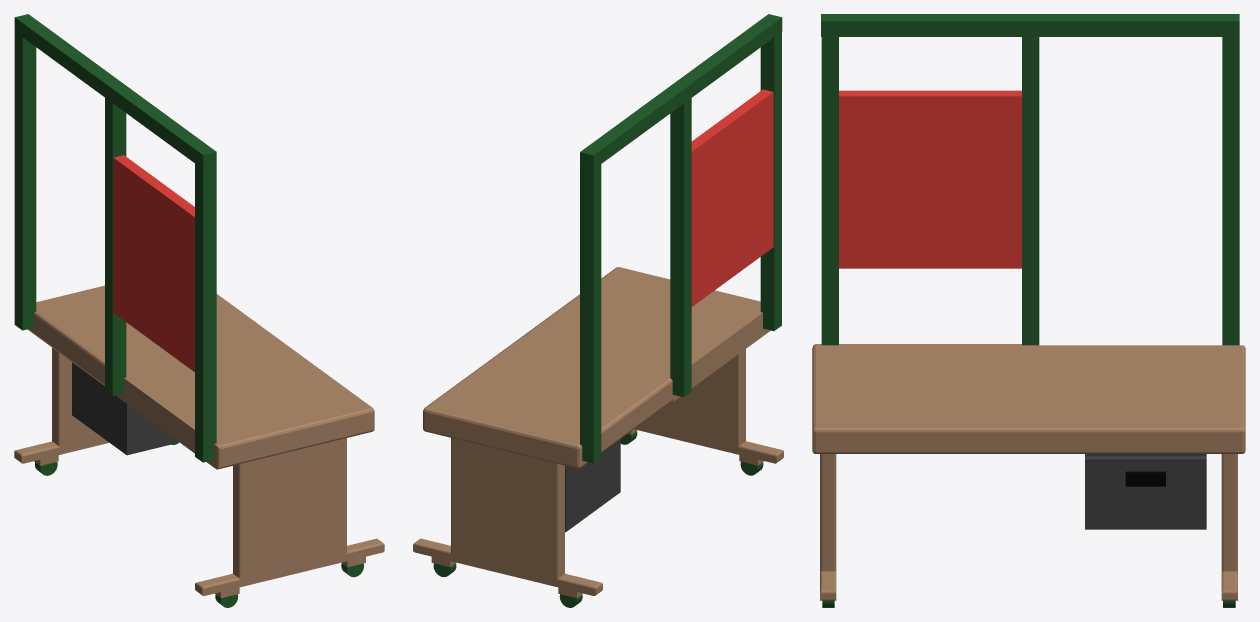
File: Assembly Station.fbx
3 views of the same model, side by side, from view 1: azimuth 30°, elevation 25°; view 2: azimuth 150°, elevation 25°; view 3: azimuth 270°, elevation 25° (orthographic). The views are drawn at different scales.
Parts seen in each view (by area): view 1: Cube, Cube.002, Cube.004, Cube.003, Cube.001, Cylinder; view 2: Cube, Cube.002, Cube.004, Cube.003, Cube.001, Cylinder; view 3: Cube, Cube.004, Cube.002, Cube.003, Cube.001.
Part boxes in pixels (x1=…): Cube: x1=14, y1=285, x2=384, y2=598; Cube.002: x1=14, y1=31, x2=216, y2=462; Cube.004: x1=113, y1=155, x2=194, y2=371; Cube.003: x1=14, y1=14, x2=216, y2=169; Cube.001: x1=72, y1=362, x2=179, y2=455; Cylinder: x1=35, y1=442, x2=363, y2=607; Cube: x1=413, y1=267, x2=783, y2=598; Cube.002: x1=580, y1=32, x2=781, y2=463; Cube.004: x1=691, y1=89, x2=773, y2=306; Cube.003: x1=580, y1=14, x2=782, y2=168; Cube.001: x1=565, y1=439, x2=620, y2=532; Cylinder: x1=433, y1=431, x2=763, y2=607; Cube: x1=812, y1=344, x2=1245, y2=600; Cube.004: x1=839, y1=90, x2=1021, y2=268; Cube.002: x1=821, y1=36, x2=1239, y2=345; Cube.003: x1=821, y1=14, x2=1239, y2=36; Cube.001: x1=1085, y1=454, x2=1206, y2=529.
Bounding box in the file's own units: 80.89 × 195 × 150.
